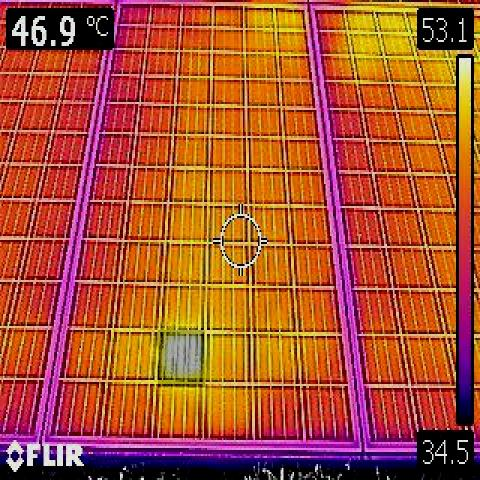fault: (158, 330, 205, 387)
